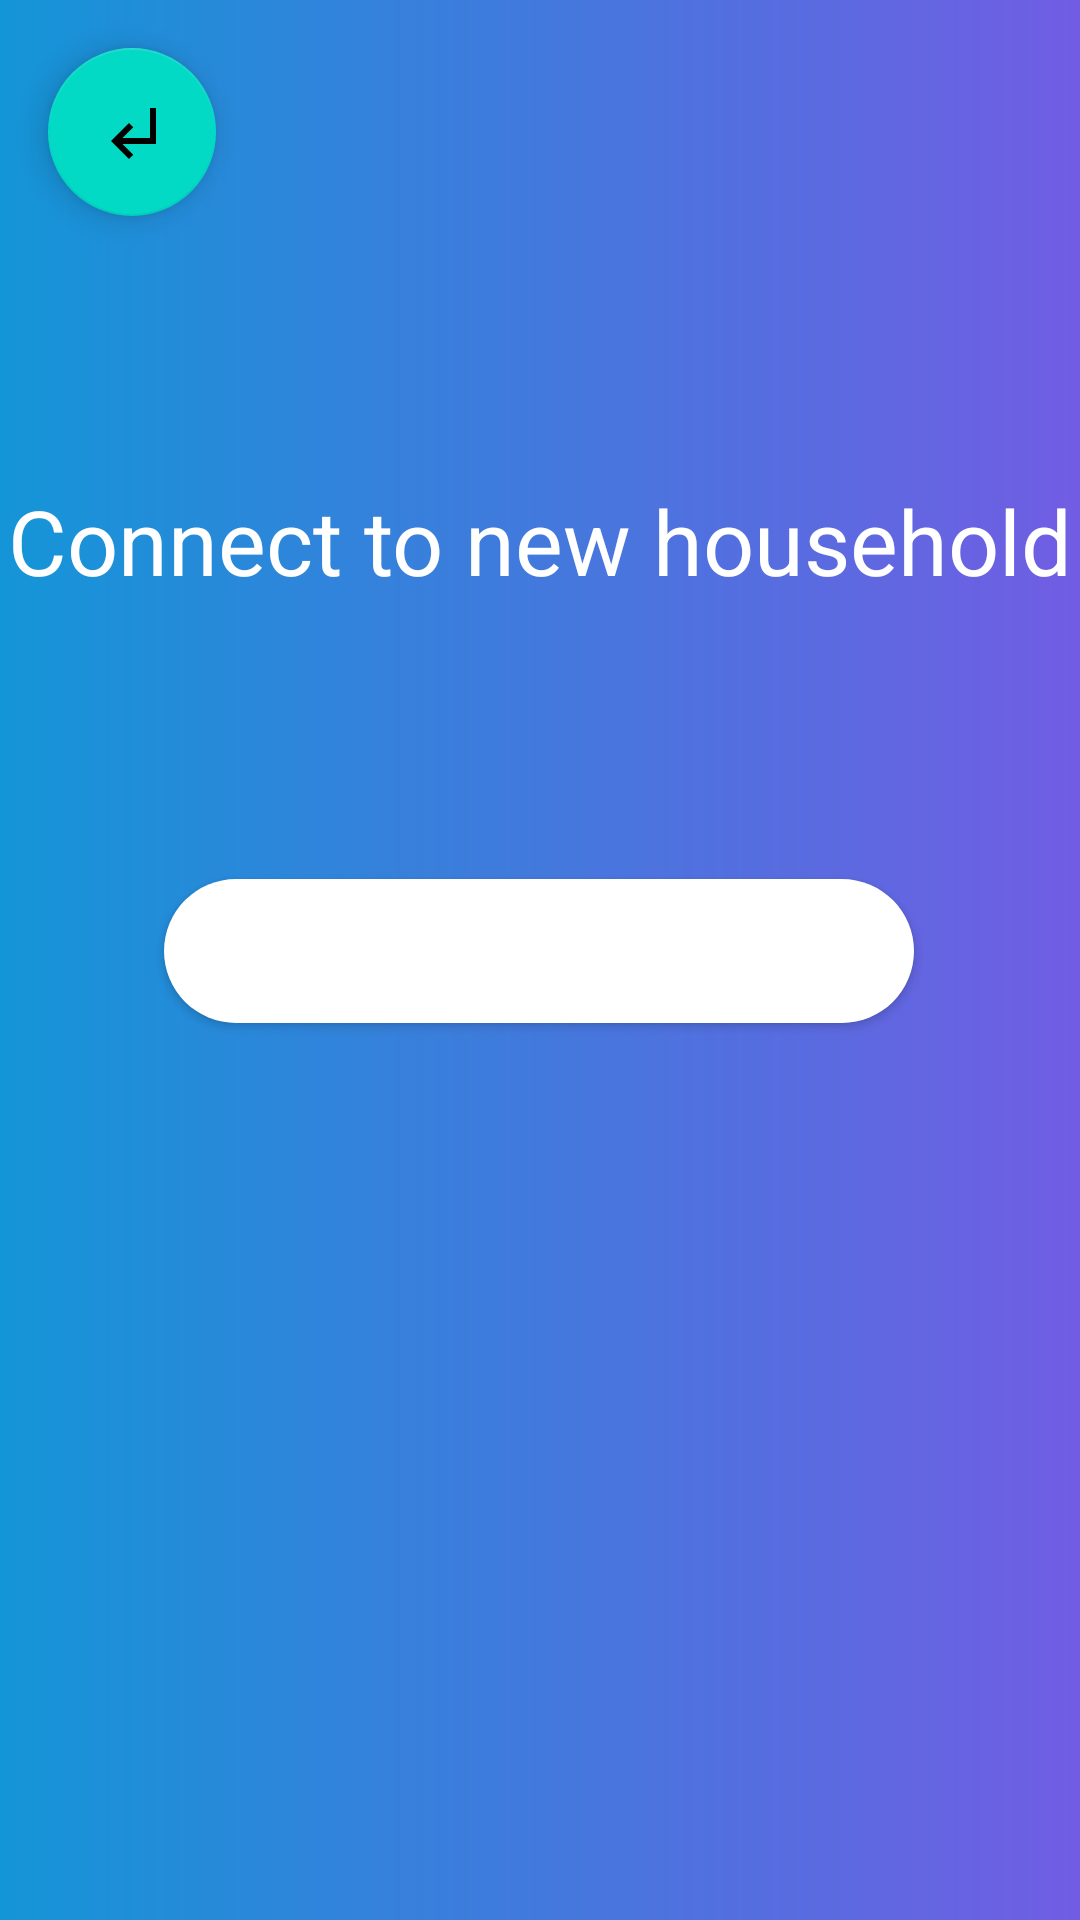

Icon click points for this 1080px x 1920px phone screenshot, format (x=x, y=y):
subdirectory arrow left: (x=132, y=132)
